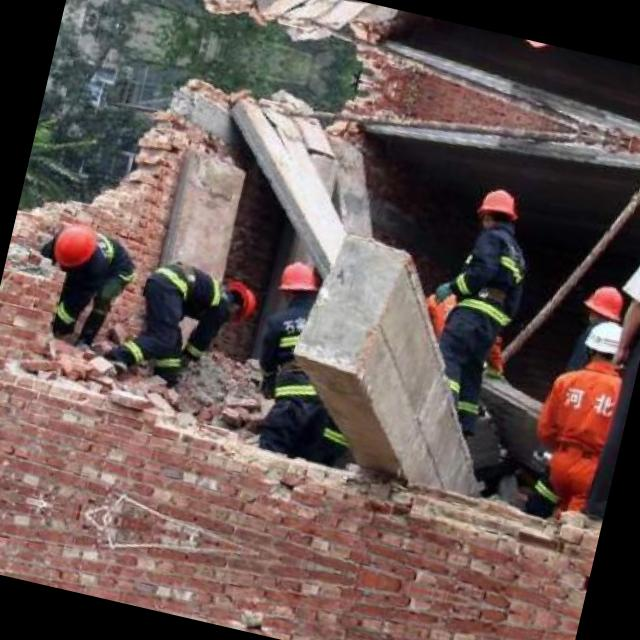helmet: (48, 217, 102, 272), (582, 316, 630, 364), (578, 280, 628, 326), (474, 185, 520, 233), (275, 256, 320, 304), (214, 278, 258, 326)
